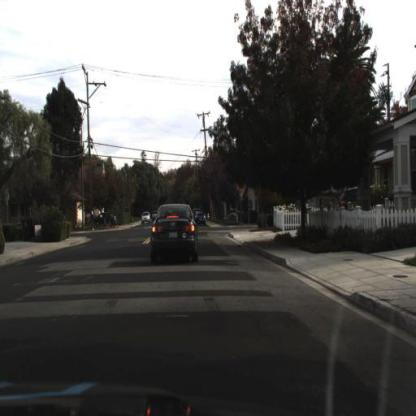car: (145, 203, 200, 271), (89, 208, 121, 234), (139, 205, 154, 231), (195, 210, 209, 231)
